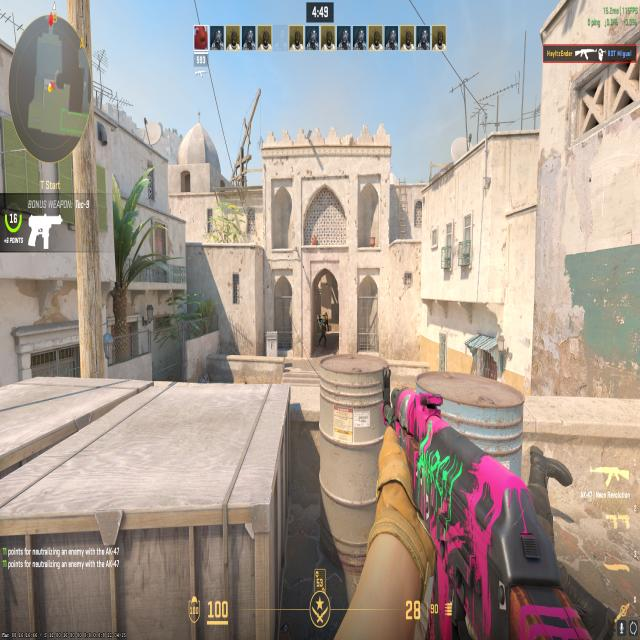ct: (318, 321, 327, 348)
t: (322, 310, 329, 332)
